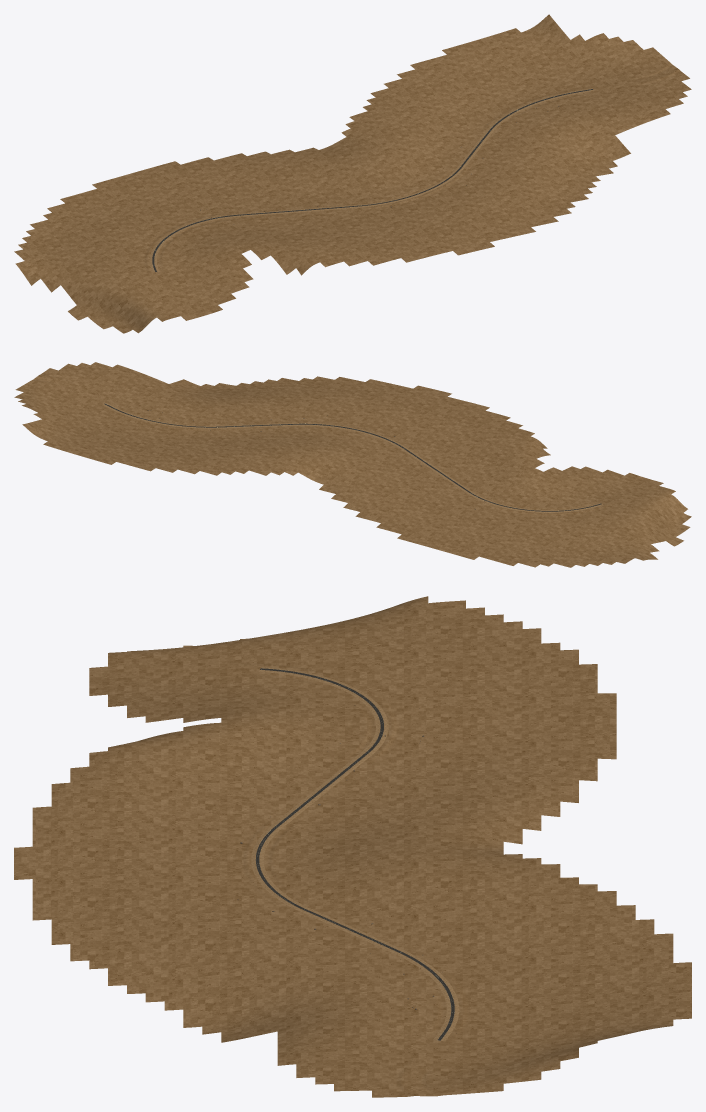
The picture shows the model from 3 angles, top to bottom: view 1: azimuth 30°, elevation 25°; view 2: azimuth 150°, elevation 25°; view 3: azimuth 270°, elevation 25°; orthographic projection. The views are drawn at different scales.
Visible parts, largest first — view 1: S04_TERRAIN_LOD0_WEB_EXPORT, V2_LANDFORM_S04_CUT_FILL_LEFT_WEB_EXPORT, V2_LANDFORM_S04_CUT_FILL_RIGHT_WEB_EXPORT, S04_ROAD_ASPHALT_LOD0_WEB_EXPORT; view 2: S04_TERRAIN_LOD0_WEB_EXPORT, V2_LANDFORM_S04_CUT_FILL_RIGHT_WEB_EXPORT, V2_LANDFORM_S04_CUT_FILL_LEFT_WEB_EXPORT, S04_ROAD_ASPHALT_LOD0_WEB_EXPORT; view 3: S04_TERRAIN_LOD0_WEB_EXPORT, V2_LANDFORM_S04_CUT_FILL_LEFT_WEB_EXPORT, V2_LANDFORM_S04_CUT_FILL_RIGHT_WEB_EXPORT, S04_ROAD_ASPHALT_LOD0_WEB_EXPORT.
Boxes of the visible parts, <box> form: S04_TERRAIN_LOD0_WEB_EXPORT: <box>14,14,691,333</box>; V2_LANDFORM_S04_CUT_FILL_LEFT_WEB_EXPORT: <box>154,90,593,271</box>; V2_LANDFORM_S04_CUT_FILL_RIGHT_WEB_EXPORT: <box>149,88,592,272</box>; S04_ROAD_ASPHALT_LOD0_WEB_EXPORT: <box>152,89,592,271</box>; S04_TERRAIN_LOD0_WEB_EXPORT: <box>14,362,691,567</box>; V2_LANDFORM_S04_CUT_FILL_RIGHT_WEB_EXPORT: <box>102,404,603,512</box>; V2_LANDFORM_S04_CUT_FILL_LEFT_WEB_EXPORT: <box>106,403,600,510</box>; S04_ROAD_ASPHALT_LOD0_WEB_EXPORT: <box>104,403,601,511</box>; S04_TERRAIN_LOD0_WEB_EXPORT: <box>14,596,691,1097</box>; V2_LANDFORM_S04_CUT_FILL_LEFT_WEB_EXPORT: <box>251,670,450,1040</box>; V2_LANDFORM_S04_CUT_FILL_RIGHT_WEB_EXPORT: <box>260,667,459,1041</box>; S04_ROAD_ASPHALT_LOD0_WEB_EXPORT: <box>255,668,454,1040</box>.
Size of the model in its own units: 2840 by 293 by 1440.
12 materials, 9 textured.
